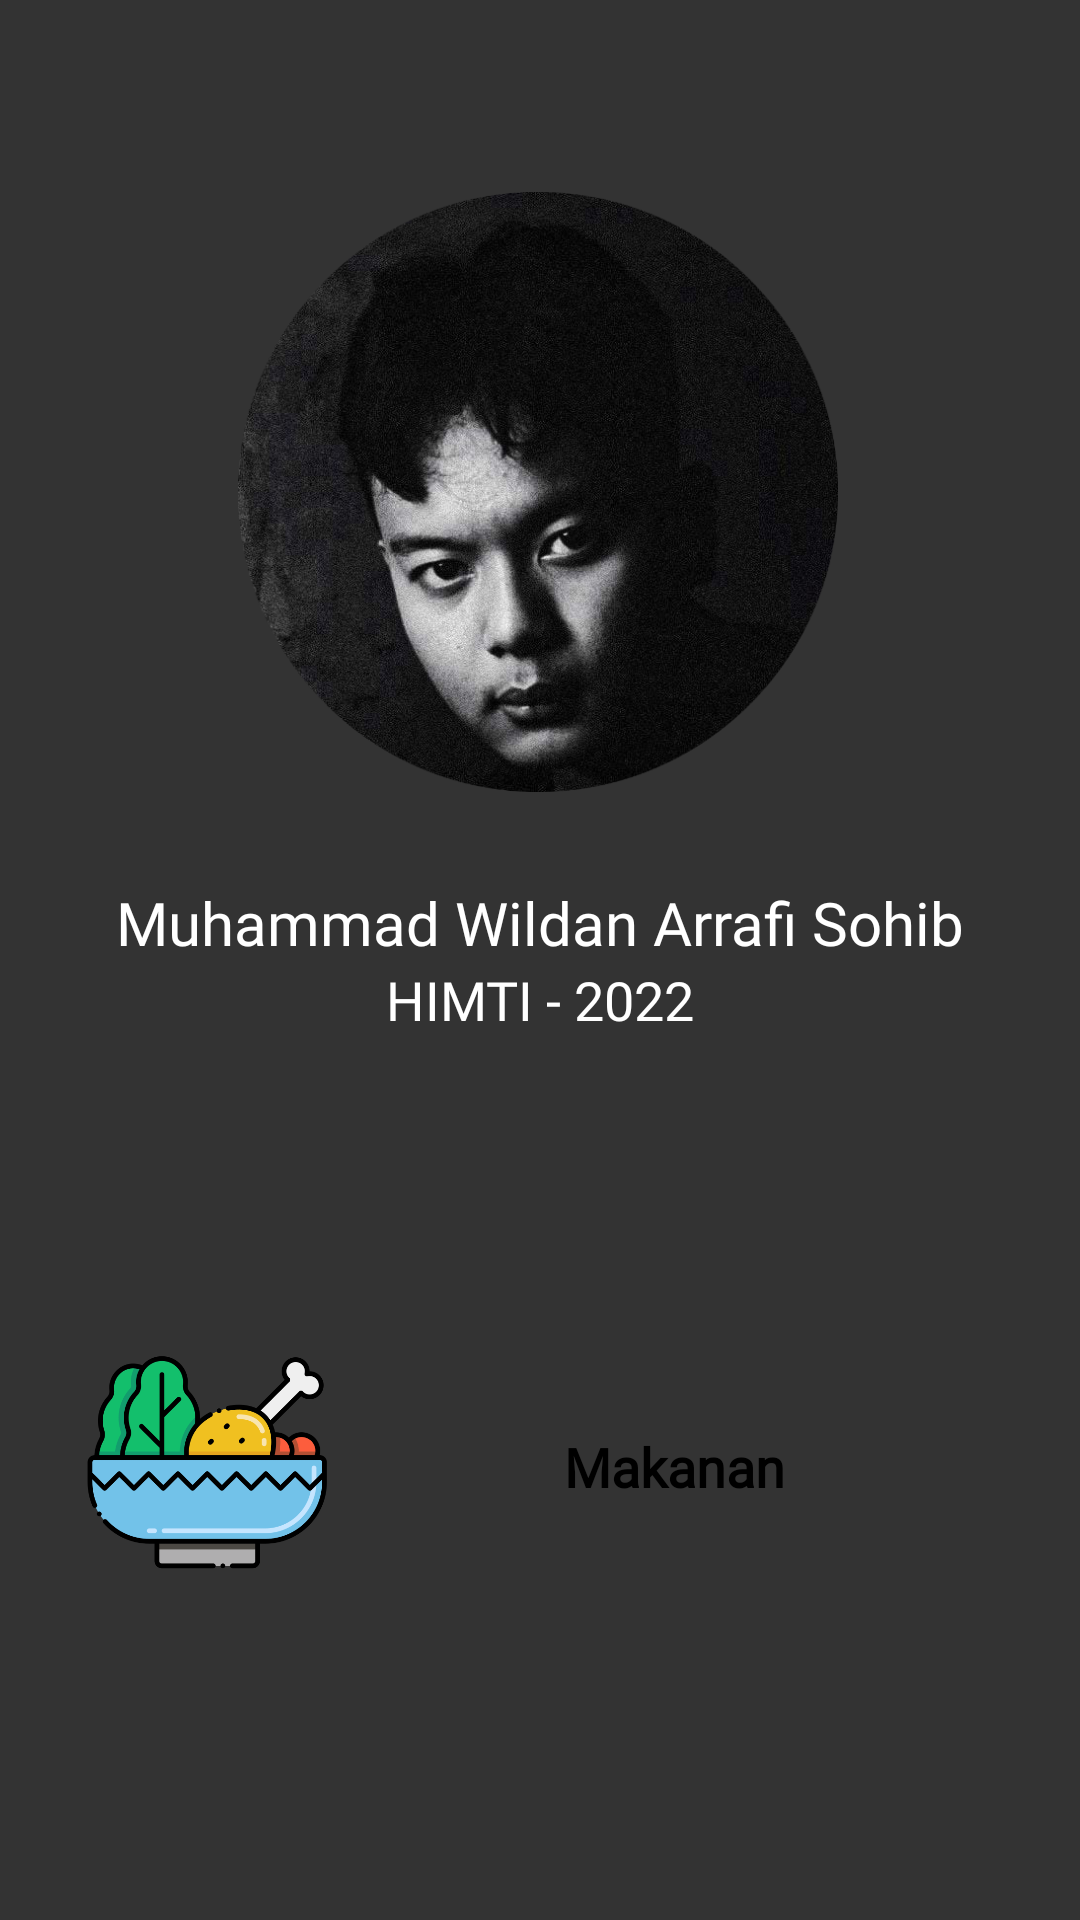

Icons on this 1080px×1920px Android screen, each with the point to tap as (x,y):
food: (207,1462)
